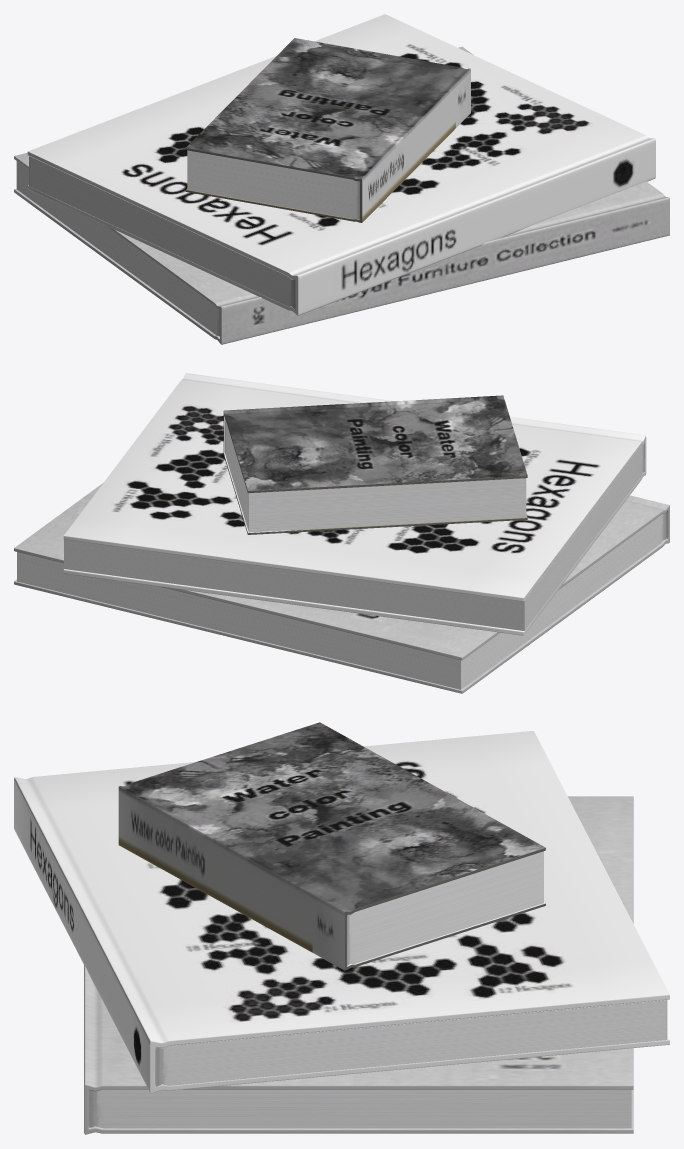
File: book_collection_set_2_24.glb
3 views of the same model, one above another, from view 1: azimuth 30°, elevation 25°; view 2: azimuth 150°, elevation 25°; view 3: azimuth 270°, elevation 25° (orthographic). The views are drawn at different scales.
Parts seen in each view (by area): view 1: BP_book_collection_set_2_24; view 2: BP_book_collection_set_2_24; view 3: BP_book_collection_set_2_24.
Boxes of the visible parts, x1=… form: BP_book_collection_set_2_24: x1=14, y1=14, x2=669, y2=344; BP_book_collection_set_2_24: x1=14, y1=373, x2=669, y2=693; BP_book_collection_set_2_24: x1=14, y1=722, x2=669, y2=1134.
Bounding box in the file's own units: 0.3231 × 0.0764 × 0.2872.
Materials: 4 (4 with a texture image).
